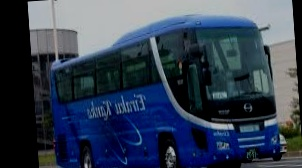bus: (44, 10, 281, 168)
